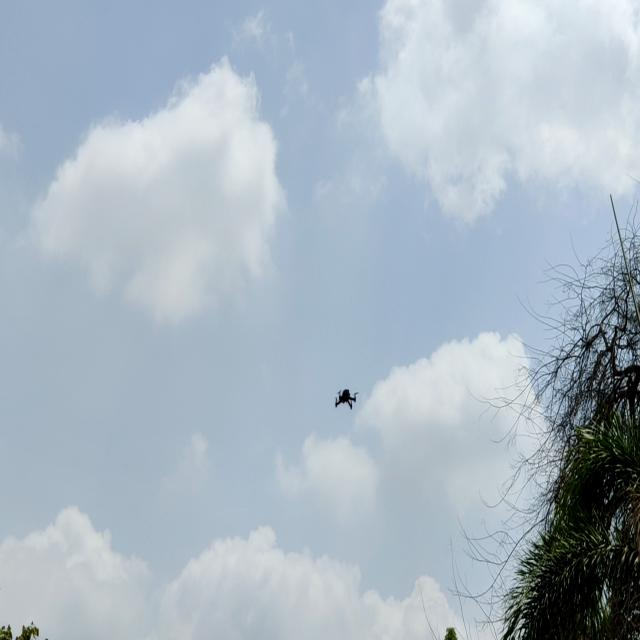drone: (332, 381, 362, 413)
